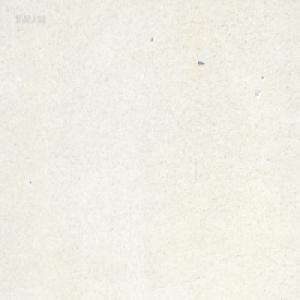Nail: (197, 60, 204, 65)
